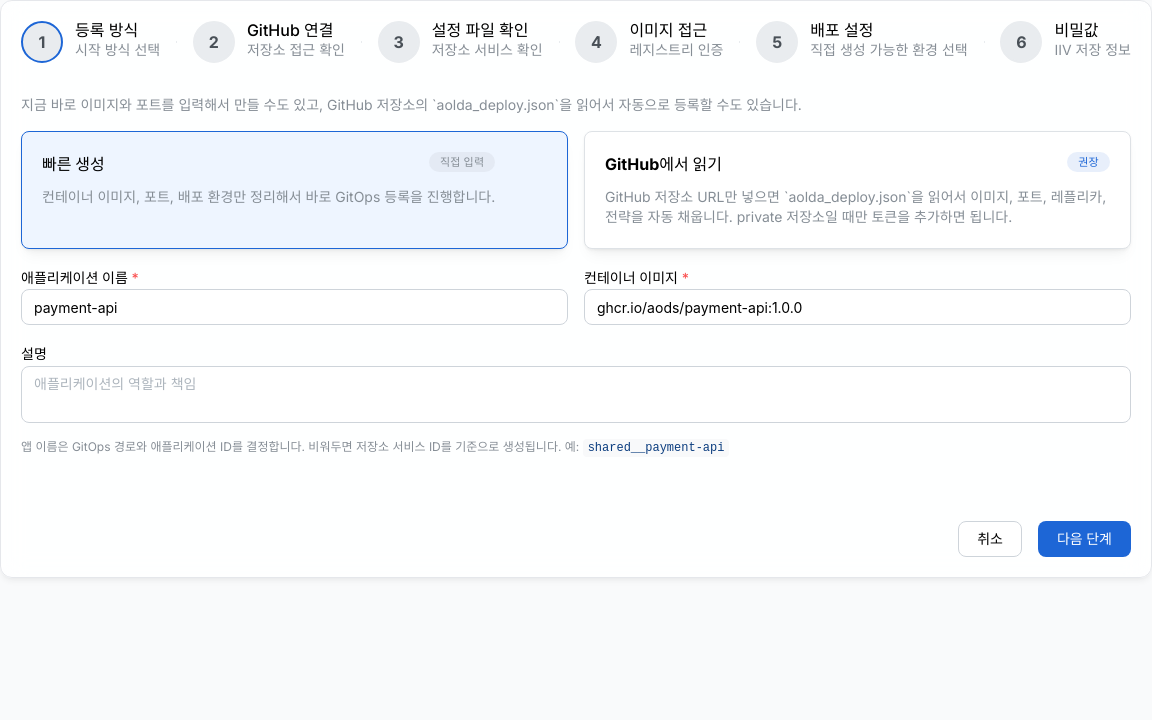
Test case: ApplicationWizard › [US-APP-007] 빠른 생성은 설정 파일 확인 단계를 건너뛰고 배포 설정으로 이동한다
Step 1. Click the button "다음 단계" → (1084, 539), box [1038,521,1131,557]
(page scrolled)
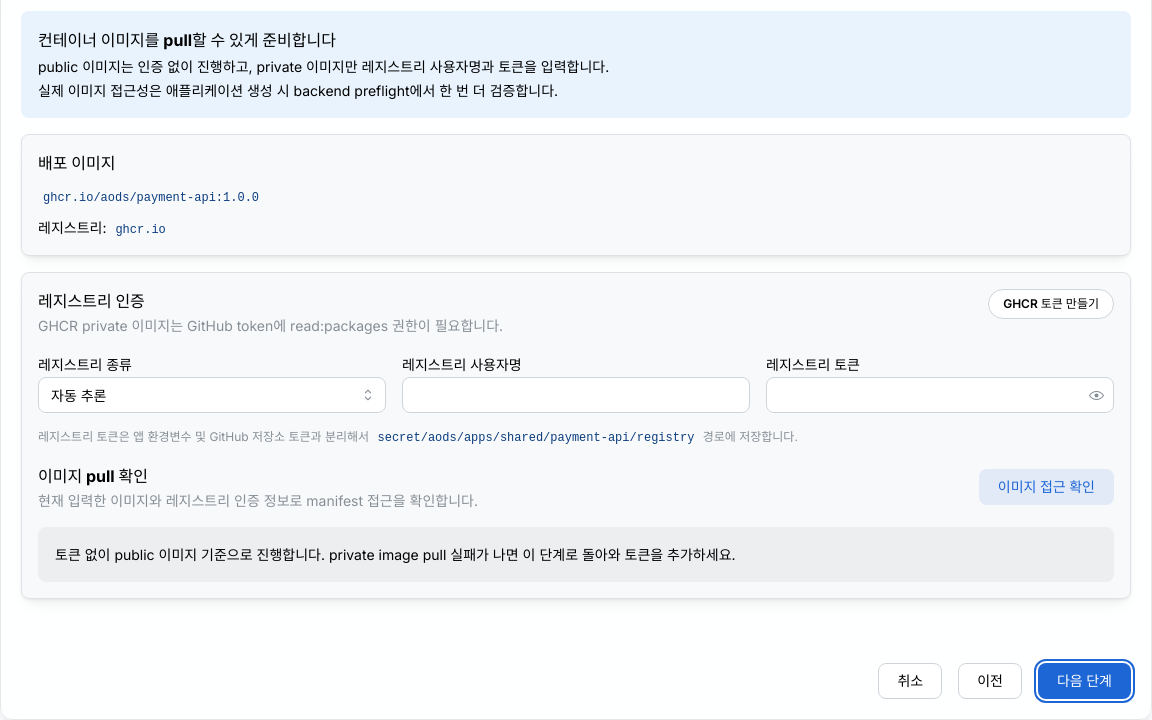
Check: the text "컨테이너 이미지를 pull할 수 있게 준비합니다" is shown, box [38,30,336,50]
Check: the text "배포 이미지" is shown, box [38,153,115,173]
Step 2. Click the button "다음 단계" → (1084, 681), box [1038,663,1131,699]
(page scrolled)
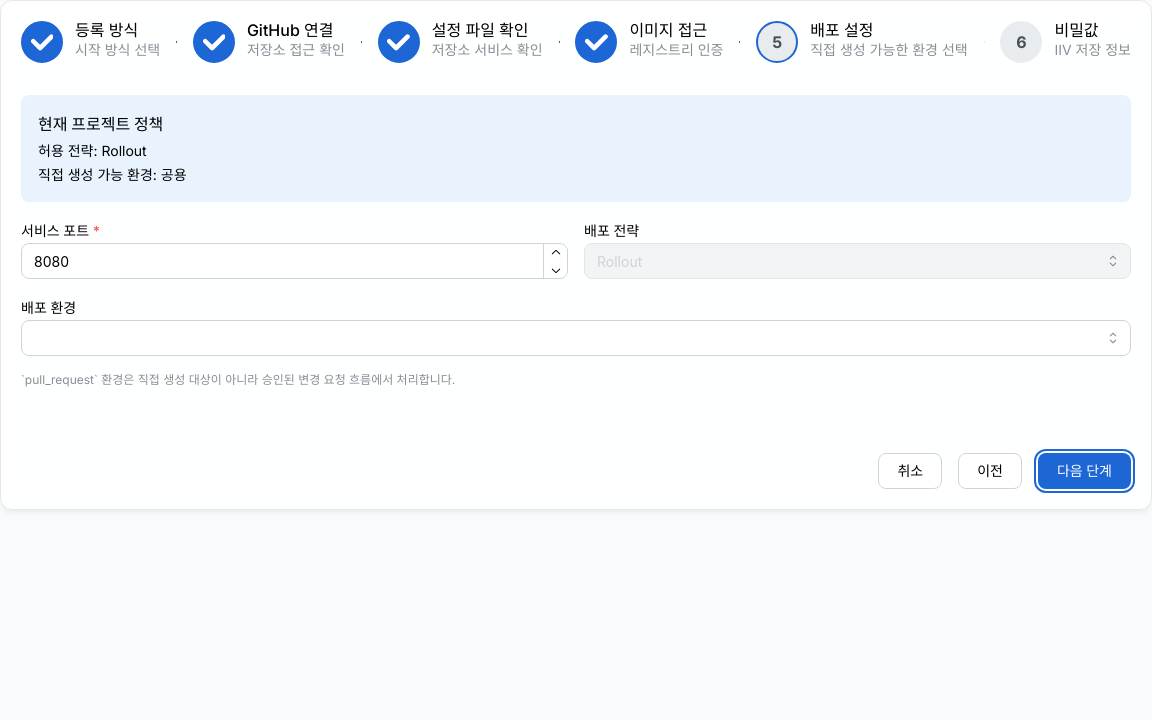
Check: the text "현재 프로젝트 정책" is shown, box [38,114,163,134]
Check: the text "서비스 포트" is shown, box [21,222,89,239]
